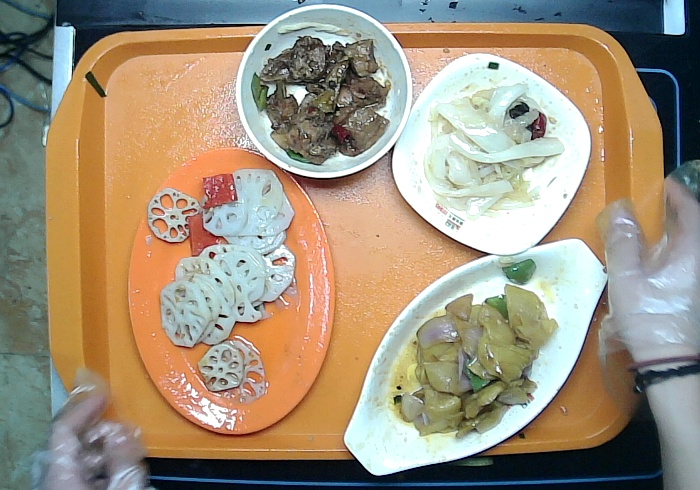NLDX-Bai_Se_Xiao_Fang_Die: (392, 53, 590, 256)
NLDX-Fan_Wan: (236, 3, 413, 178)
NLDX-Ju_Se_Pan: (127, 147, 336, 437)
NLDX-Yu_Pan: (341, 238, 609, 476)
